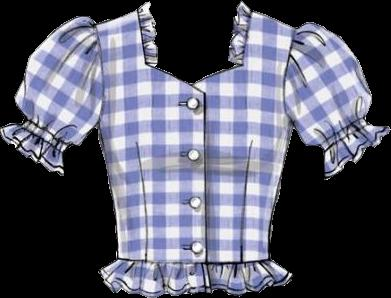Bodice: (94, 1, 296, 296)
Neckline: (134, 10, 253, 87), (147, 1, 243, 87), (116, 255, 271, 266)
Sleeve: (284, 22, 390, 179), (0, 16, 102, 175)
Sleeveline: (283, 28, 298, 129), (319, 116, 365, 146), (26, 118, 68, 148), (94, 23, 104, 127)
Waistline: (97, 270, 294, 297)
